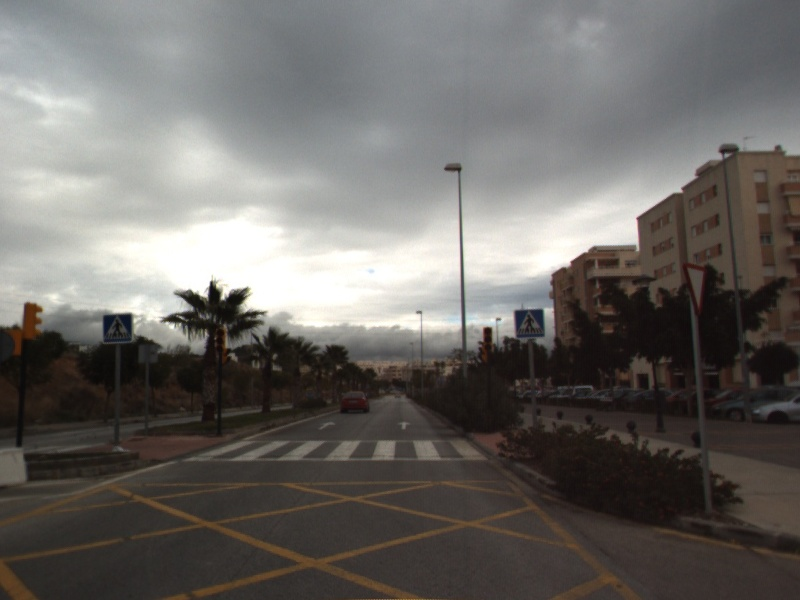STRAIGHT: (316, 419, 338, 431), (396, 419, 413, 431)
